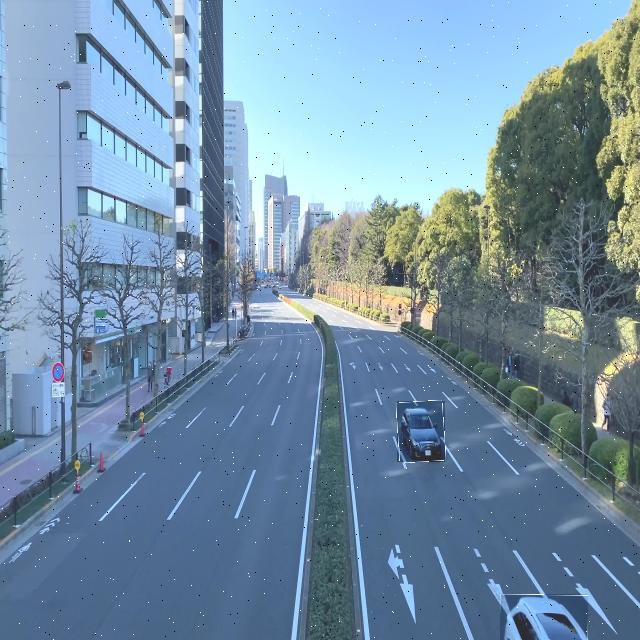Car: (500, 594, 588, 640), (397, 401, 445, 462)
